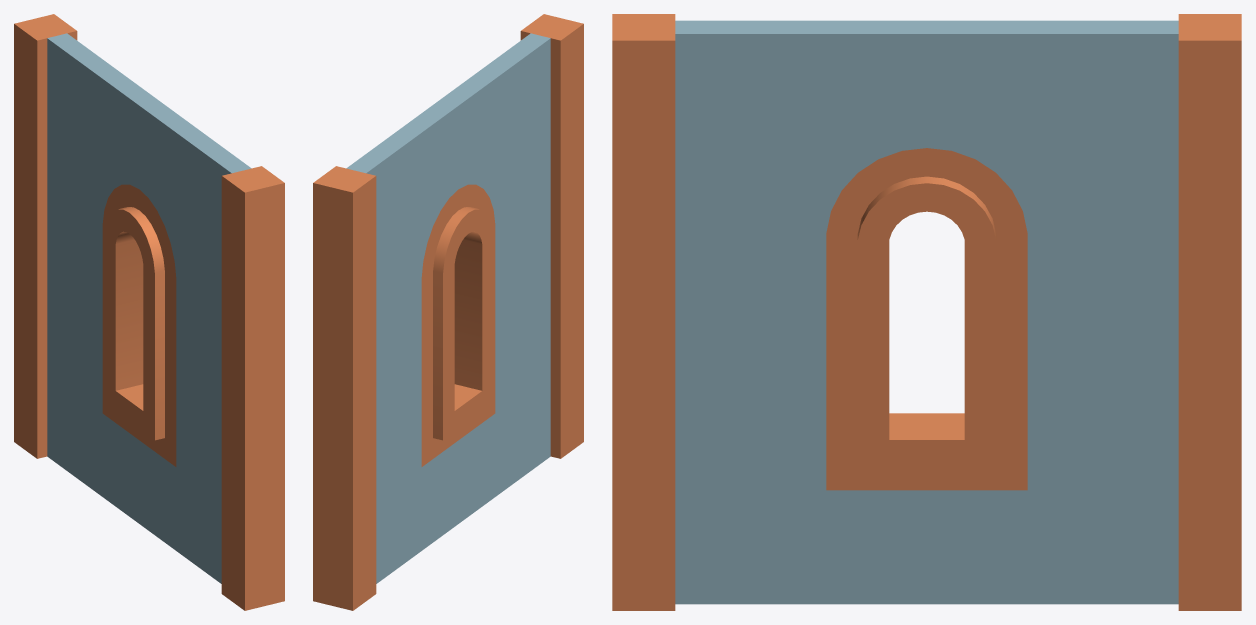
File: wallWindowRound.fbx
3 renders of one model, left to right at view 1: azimuth 30°, elevation 25°; view 2: azimuth 150°, elevation 25°; view 3: azimuth 270°, elevation 25°, orthographic. The views are drawn at different scales.
Visible parts, largest first — view 1: wallWindowRound; view 2: wallWindowRound; view 3: wallWindowRound.
Part boxes in pixels (x1,y1,x2,y2): wallWindowRound: [14, 14, 284, 610]; wallWindowRound: [313, 14, 583, 610]; wallWindowRound: [612, 14, 1241, 610].
Size of the model in its own units: 1 by 10 by 10.
